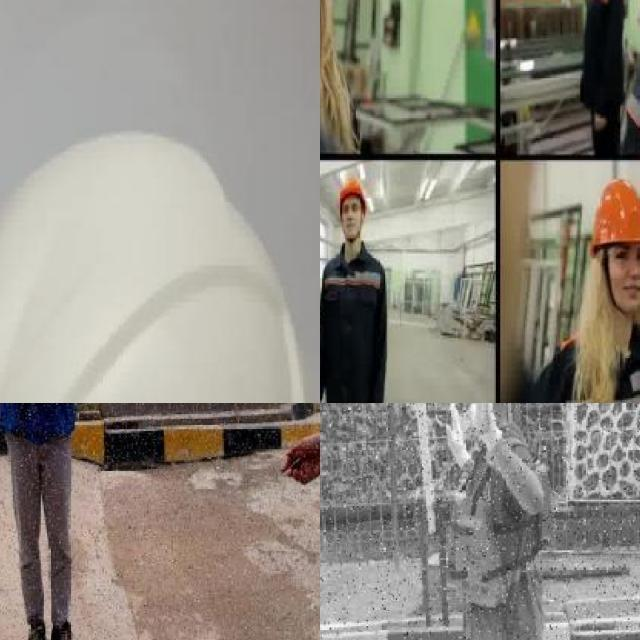apron: (440, 403, 471, 471), (466, 403, 503, 453)
